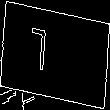L_S: (45, 28, 65, 82)
